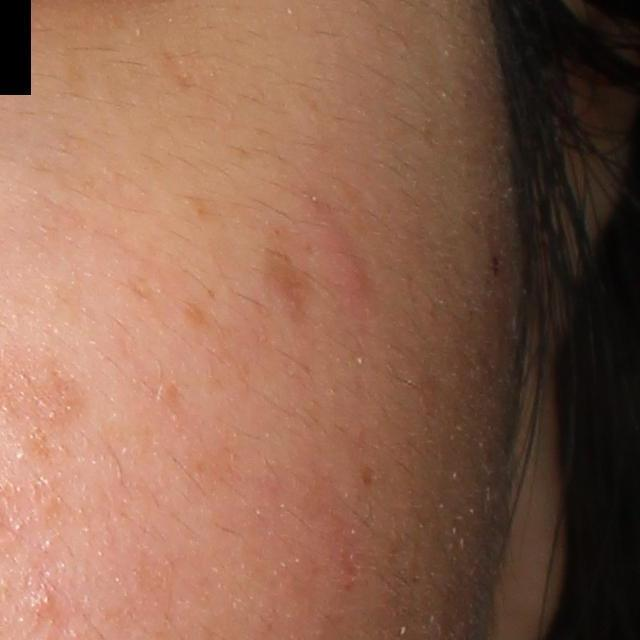comedo: (26, 583, 58, 618)
